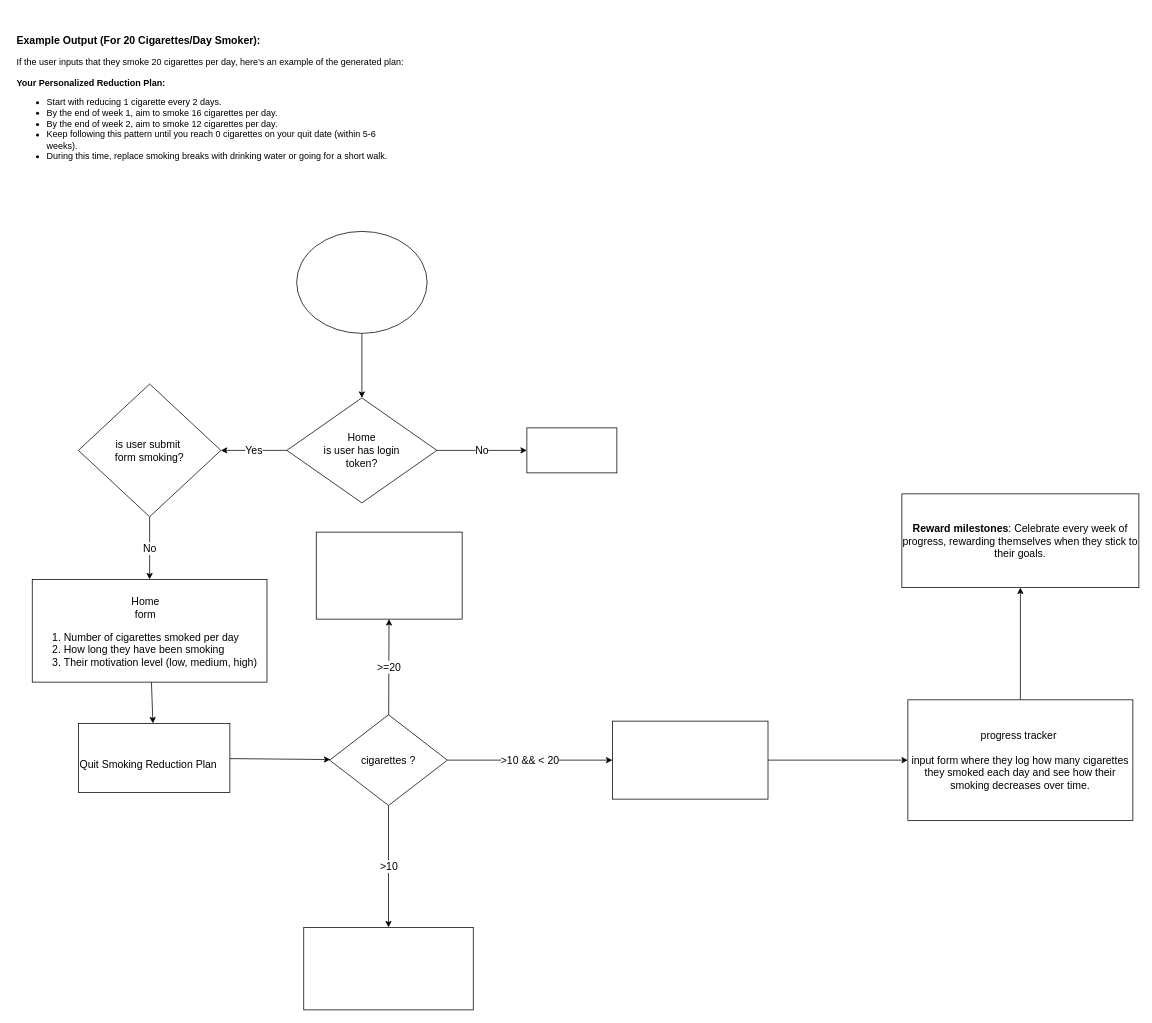
Image size: 1152x1023. Some labels were removed from this diagram. The shapes that lost their labels are listed below. From the top down, each one's centre as x and y in pixels, then its label:
At (x=361, y=282): "Home index true Home starting with simple quote".
At (x=389, y=575): "Reduce by 1 cigarette every two days at the of weak 6 0 cigarettes".
At (x=690, y=759): "Reduce by 1 cigarette every three days at the of weak 6 0 cigarettes".
At (x=388, y=968): "Reduce by 1 cigarette every weak at the of weak 6 0 cigarettes".
